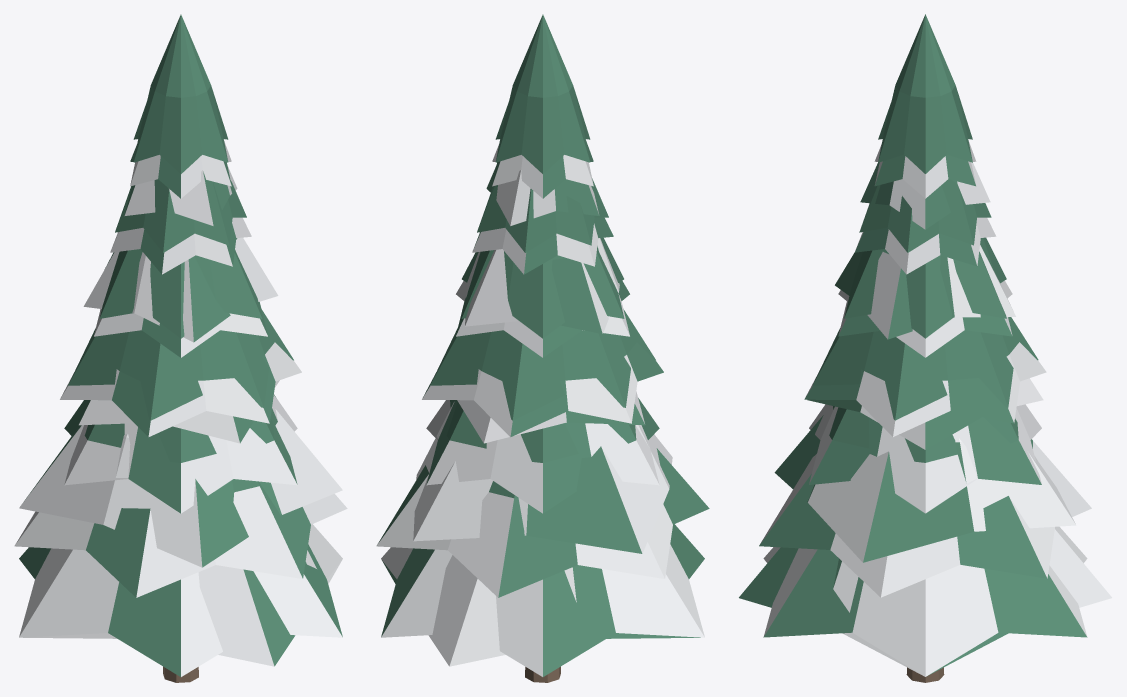
File: trees.glb
3 renders of one model, left to right at view 1: azimuth 30°, elevation 25°; view 2: azimuth 150°, elevation 25°; view 3: azimuth 270°, elevation 25°, orthographic.
Parts seen in each view (by area): view 1: pineSnowy, pineGreen, pineFar; view 2: pineSnowy, pineGreen, pineFar; view 3: pineSnowy, pineGreen, pineFar.
Part boxes in pixels (left/top/right/bottom): pineSnowy: left=14, top=141, right=347, bottom=682; pineGreen: left=68, top=14, right=293, bottom=492; pineFar: left=19, top=165, right=342, bottom=666; pineSnowy: left=376, top=141, right=709, bottom=682; pineGreen: left=430, top=14, right=655, bottom=498; pineFar: left=382, top=165, right=700, bottom=666; pineSnowy: left=759, top=141, right=1091, bottom=682; pineGreen: left=812, top=14, right=1038, bottom=462; pineFar: left=739, top=162, right=1111, bottom=675.
Bounding box in the file's own units: 6 × 11.7 × 6.
